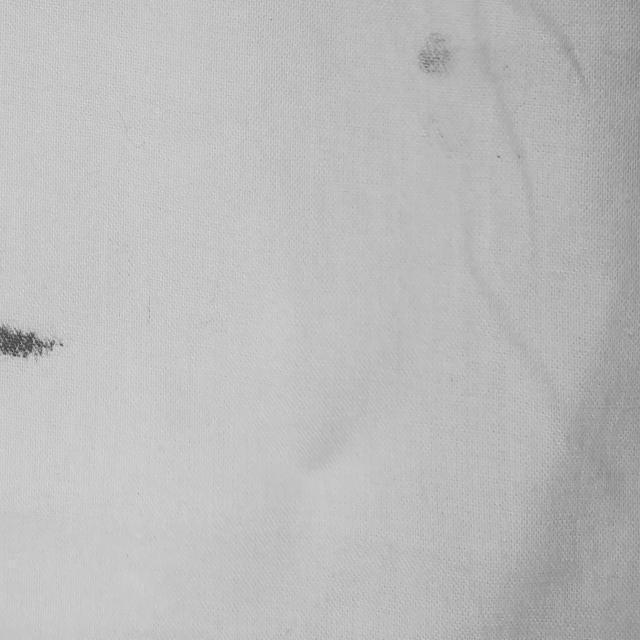Thread_other: (0, 268, 199, 414), (316, 11, 510, 133)
